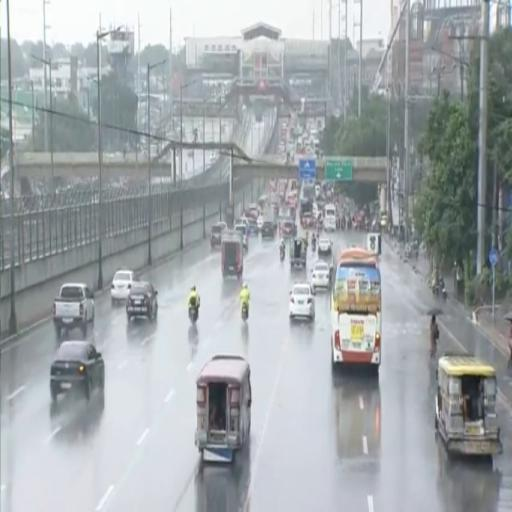bus: (331, 248, 381, 373)
car: (50, 341, 104, 403), (126, 282, 157, 322), (289, 282, 315, 321), (111, 270, 136, 305), (312, 262, 330, 290), (211, 222, 226, 248), (280, 220, 296, 237), (318, 237, 332, 255), (261, 221, 275, 238), (248, 218, 258, 235), (257, 216, 264, 230)
jeepney: (435, 355, 502, 455), (195, 356, 251, 462)
motorcycle: (189, 306, 198, 325), (439, 284, 447, 301), (241, 303, 248, 321), (280, 247, 285, 262), (312, 238, 316, 252)
truck: (53, 283, 94, 339), (289, 238, 306, 269)
